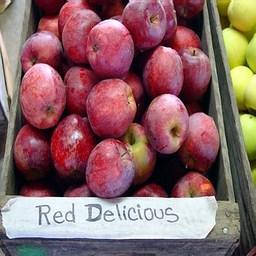apple: (19, 62, 66, 129), (85, 79, 136, 140), (142, 92, 189, 154), (86, 139, 135, 197), (118, 1, 173, 51), (50, 114, 95, 174), (176, 112, 218, 172), (88, 21, 134, 75), (12, 122, 51, 181), (141, 44, 182, 97), (177, 44, 211, 107), (122, 125, 155, 183), (19, 31, 63, 73), (63, 10, 98, 62), (62, 65, 96, 116), (170, 170, 215, 197), (165, 25, 200, 53), (36, 14, 59, 37)
